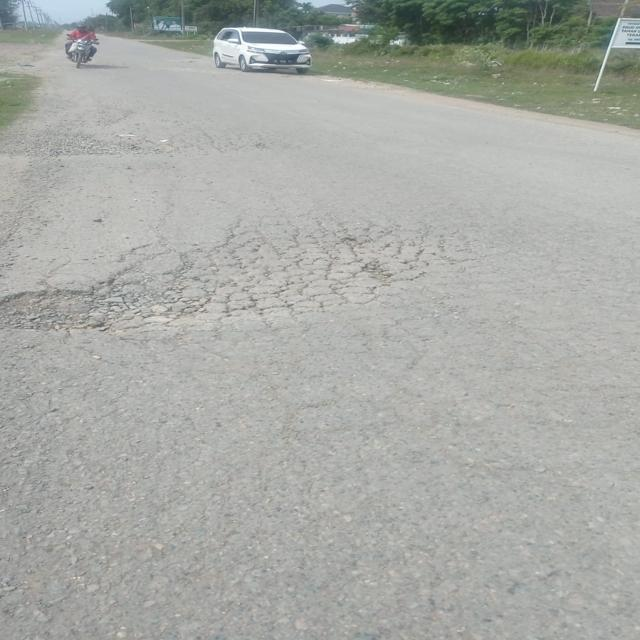Retak Buaya: (25, 209, 467, 340)
